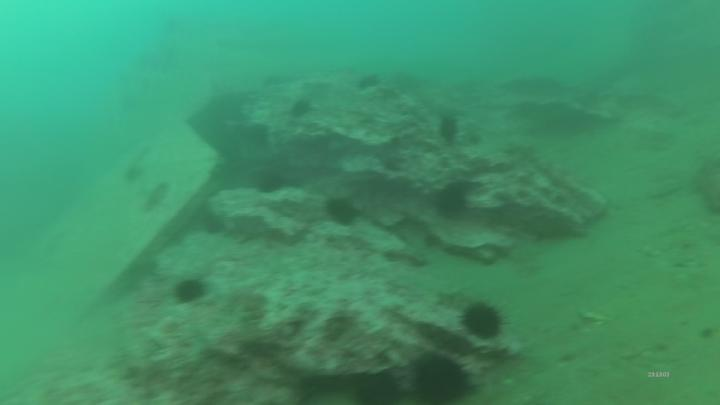echinus: (410, 348, 484, 405), (457, 295, 515, 346), (321, 192, 366, 232), (432, 181, 473, 222), (175, 275, 212, 307), (254, 167, 288, 198), (436, 111, 463, 148)
